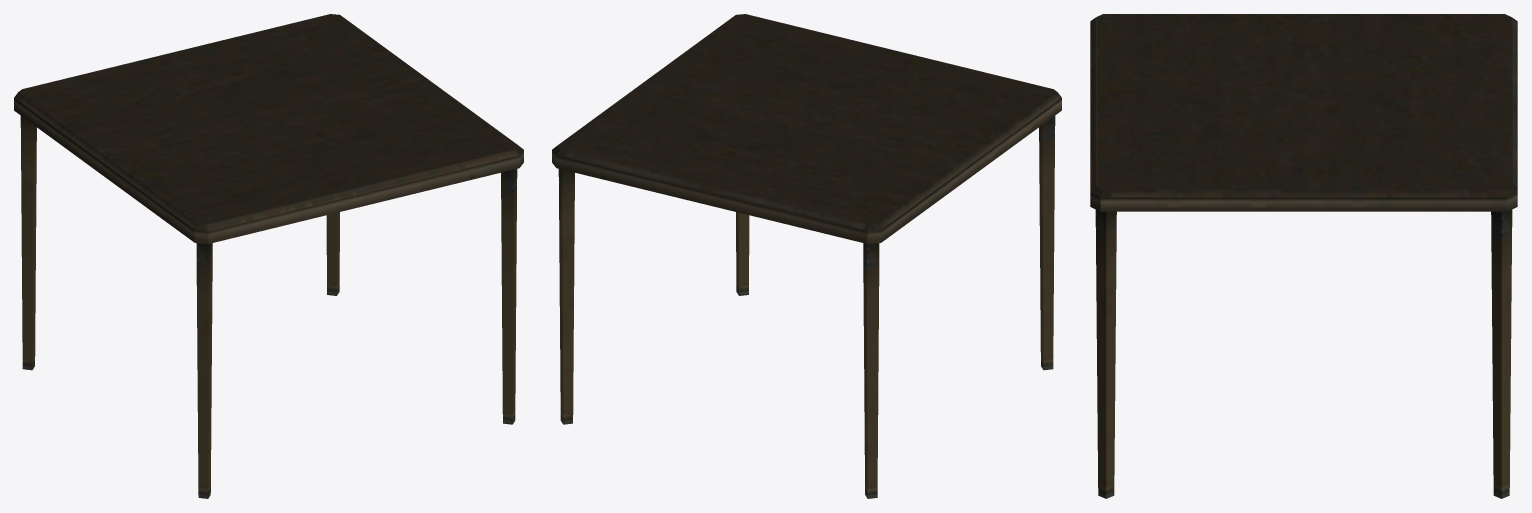
Rendered from foldup_table.fbx.
The picture shows the model from 3 angles, left to right: view 1: azimuth 30°, elevation 25°; view 2: azimuth 150°, elevation 25°; view 3: azimuth 270°, elevation 25°; orthographic projection. The views are drawn at different scales.
Parts seen in each view (by area): view 1: mesh_0; view 2: mesh_0; view 3: mesh_0.
Boxes of the visible parts, x1=… form: mesh_0: x1=14, y1=14, x2=523, y2=498; mesh_0: x1=552, y1=14, x2=1061, y2=498; mesh_0: x1=1090, y1=14, x2=1517, y2=498.
Bounding box in the file's own units: 108 × 86.08 × 108.
Materials: 1 (1 with a texture image).
